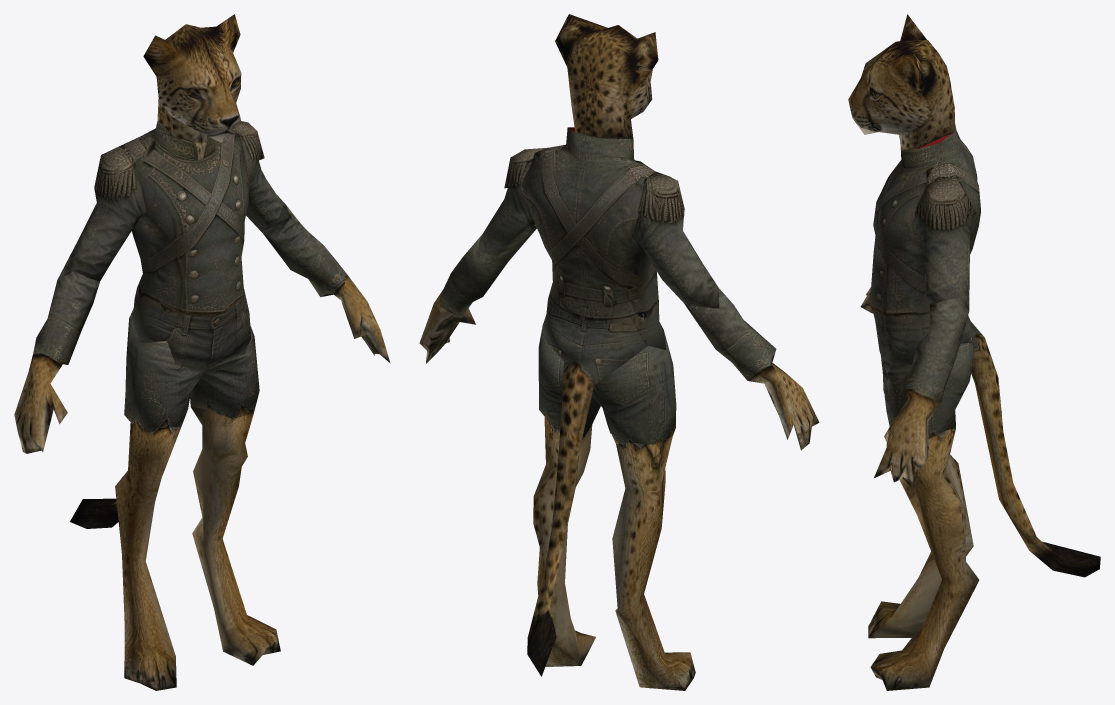
Rendered from cavalry_spd_gibs.glb.
3 views of the same model, side by side, from view 1: azimuth 30°, elevation 25°; view 2: azimuth 150°, elevation 25°; view 3: azimuth 270°, elevation 25° (orthographic). The views are drawn at different scales.
Visible parts, largest first — view 1: Body.001, Leg.R.001, Leg.L.001, Head.001, Forarm.R.001, Arm.R.001, Upleg.R.001, Forarm.L.001, Upleg.L.001, ARm.L.001; view 2: Body.001, Leg.R.001, Head.001, Upleg.R.001, Arm.R.001, Forarm.R.001, Leg.L.001, Forarm.L.001, ARm.L.001, Upleg.L.001; view 3: Body.001, Leg.L.001, Head.001, Forarm.L.001, ARm.L.001, Leg.R.001, Upleg.L.001.
Boxes of the visible parts, box(x1,y1,x2,y2) form: Body.001: box(70, 122, 251, 528); Leg.R.001: box(115, 423, 181, 690); Leg.L.001: box(191, 407, 280, 665); Head.001: box(143, 14, 241, 142); Forarm.R.001: box(14, 271, 99, 453); Arm.R.001: box(57, 146, 146, 281); Upleg.R.001: box(124, 318, 205, 432); Forarm.L.001: box(263, 205, 390, 363); Upleg.L.001: box(190, 325, 259, 418); ARm.L.001: box(231, 121, 290, 238); Body.001: box(521, 127, 665, 676); Leg.R.001: box(611, 433, 695, 690); Head.001: box(555, 14, 658, 139); Upleg.R.001: box(594, 331, 676, 444); Arm.R.001: box(632, 171, 719, 308); Forarm.R.001: box(684, 288, 819, 450); Leg.L.001: box(533, 417, 595, 666); Forarm.L.001: box(419, 234, 507, 363); ARm.L.001: box(478, 147, 547, 262); Upleg.L.001: box(538, 326, 600, 437); Body.001: box(870, 123, 1100, 577); Leg.L.001: box(870, 428, 979, 690); Head.001: box(848, 14, 954, 150); Forarm.L.001: box(874, 298, 968, 487); ARm.L.001: box(910, 176, 975, 310); Leg.R.001: box(868, 393, 973, 638); Upleg.L.001: box(884, 343, 973, 438).
Size of the model in its own units: 0.5922 by 0.9828 by 0.3604.
2 materials, 1 textured.
